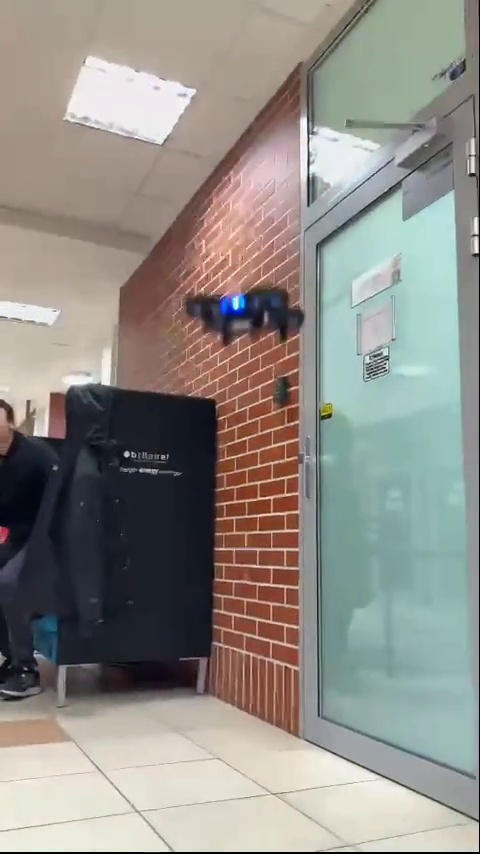drone: (186, 291, 315, 345)
no vest: (0, 397, 68, 698)
